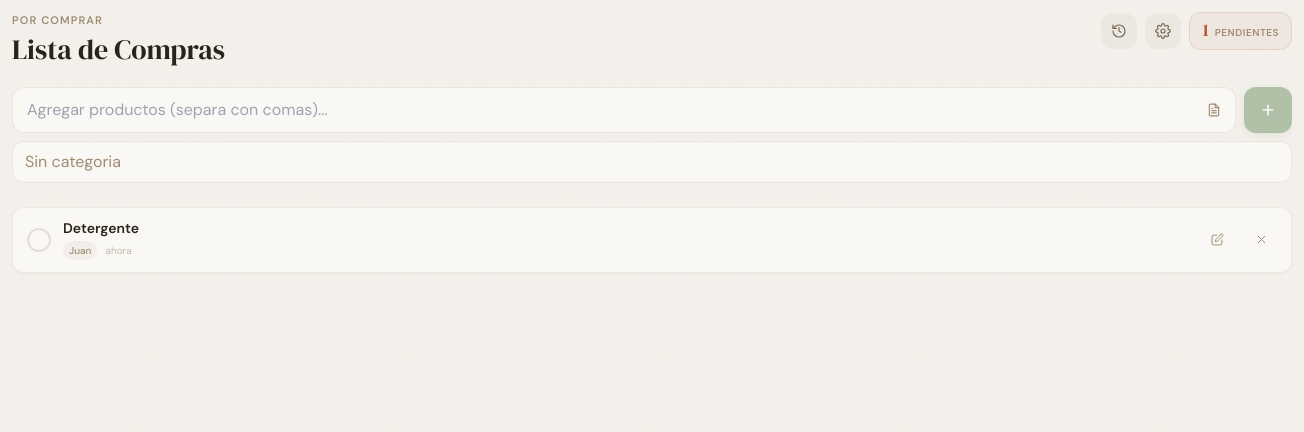
it: ShoppingList — edición de ítems › cancelar sale del modo edición sin guardar
Expected: the text "Detergente" is shown, [63, 218, 139, 236]
Click the button titled "Editar": (1217, 240) [1201, 224, 1233, 256]
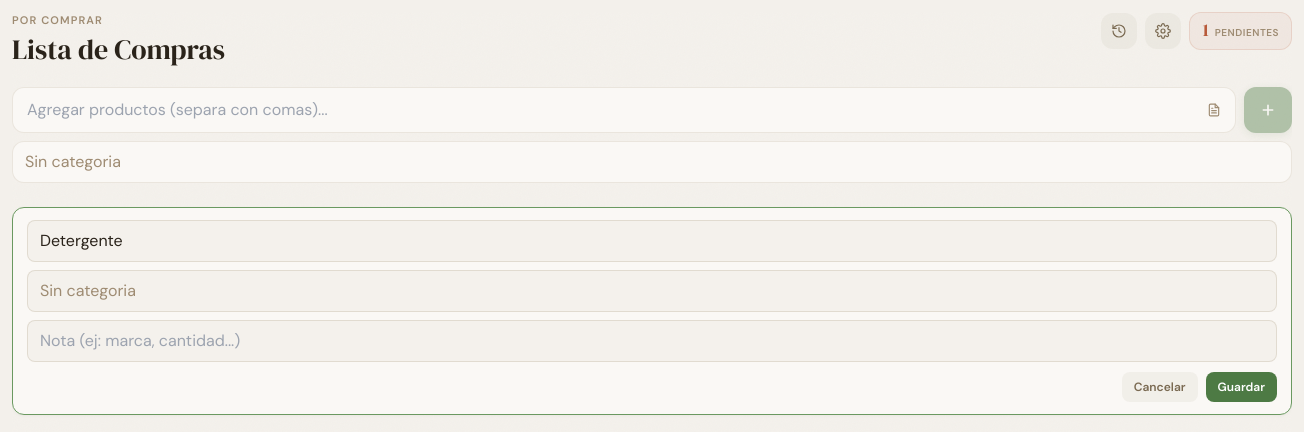
Click the button "Cancelar": (1160, 386) [1122, 372, 1198, 402]
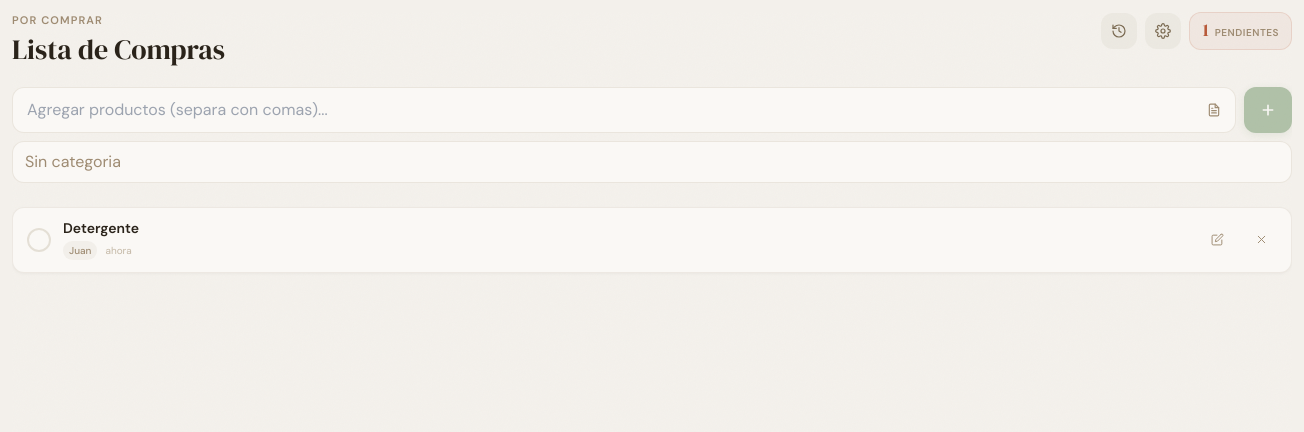
Expected: the button "Guardar" is gone
Expected: the text "Detergente" is shown, [63, 218, 139, 236]
